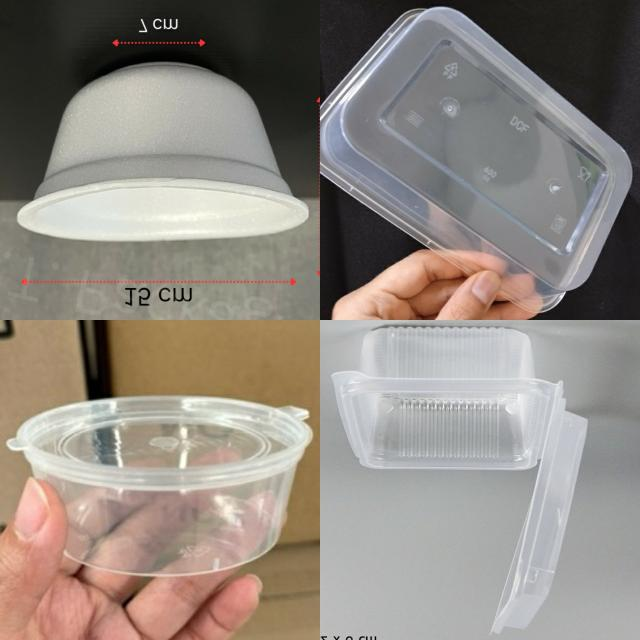Single-Use-Plastic: (321, 8, 631, 311), (332, 326, 588, 633), (8, 398, 311, 575), (18, 62, 308, 241)
